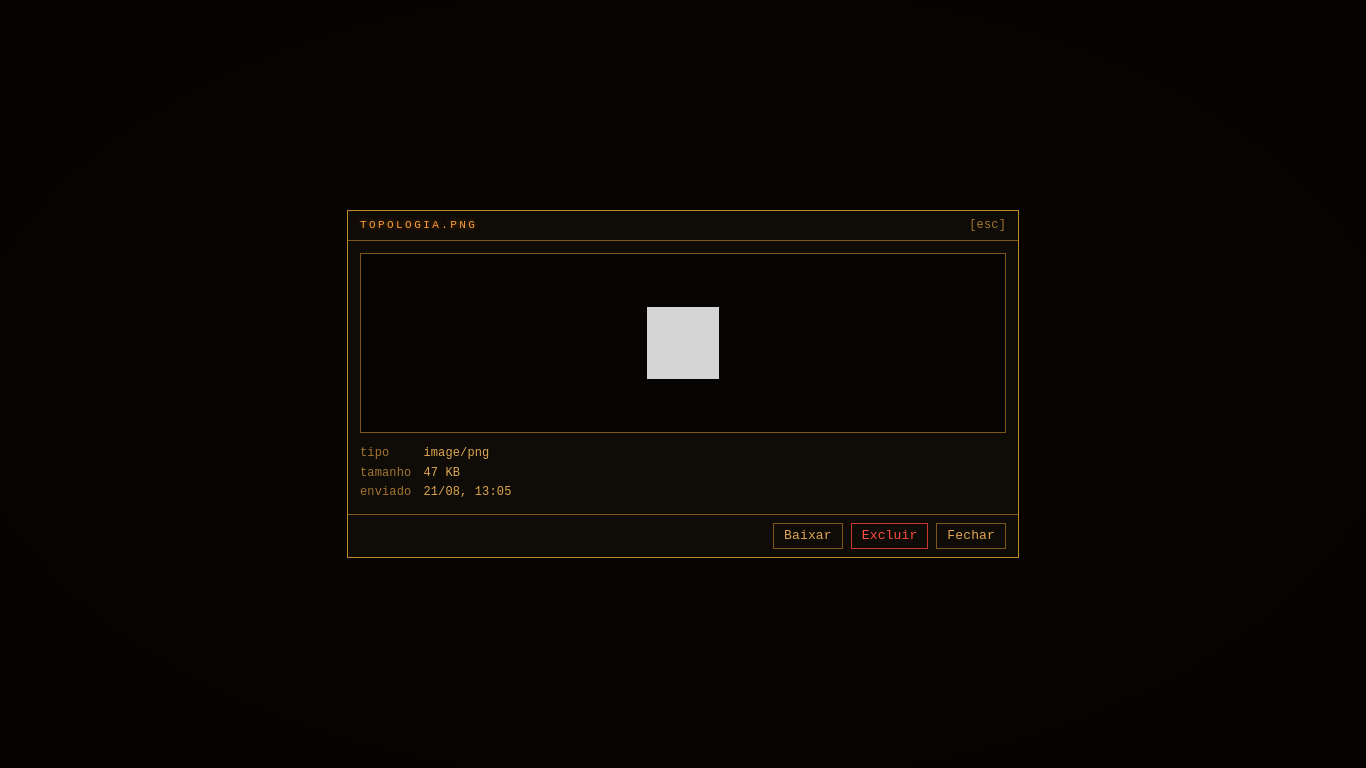
FilePreviewDialog › stays open and reports a failed delete
Click the button "Excluir": (890, 536) [851,523,928,549]
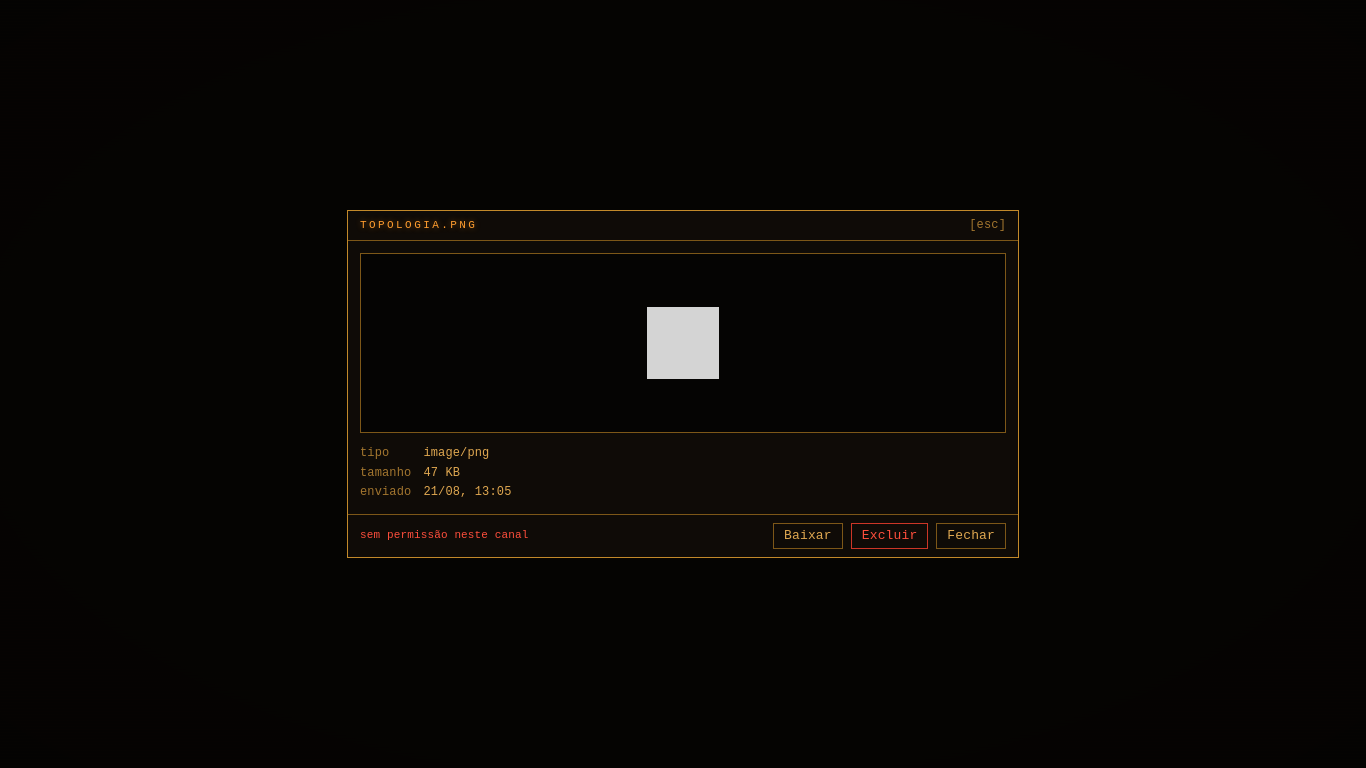
Expected: the text "sem permissão neste canal" is shown, [360,528,528,544]
